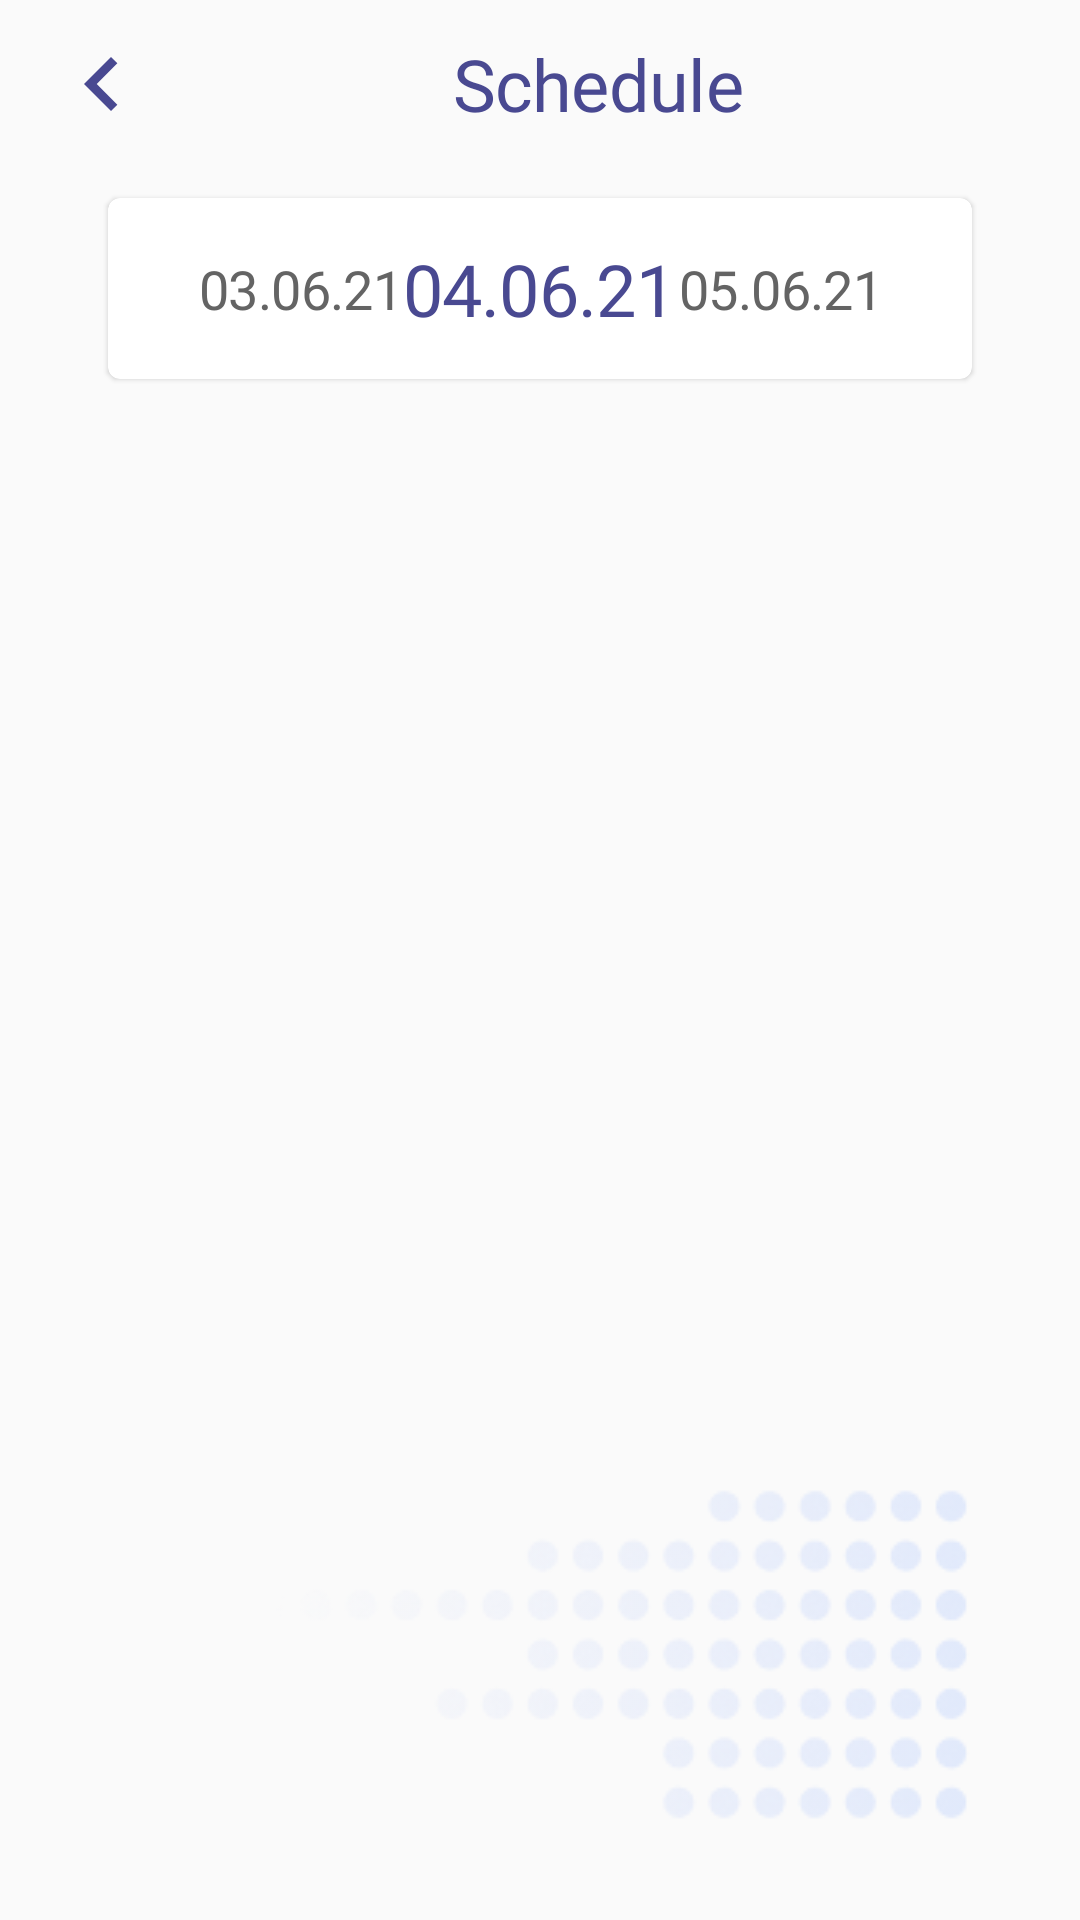

Where to tap for icons on this 1080 x 1920 app screen, as point (x, y):
back arrow: point (100, 84)
